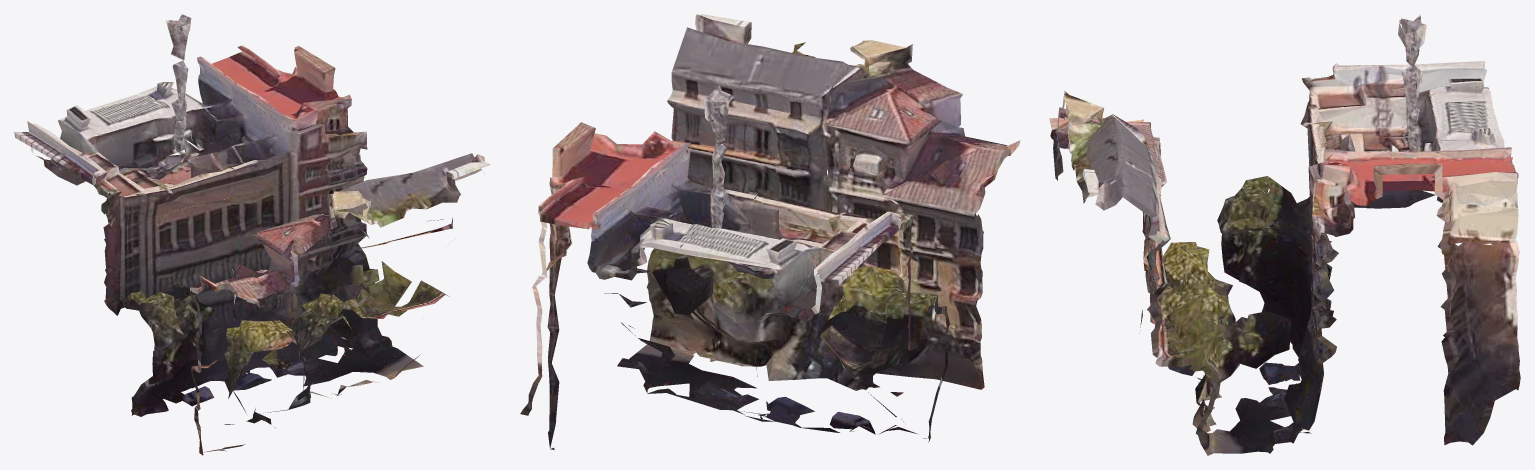
The picture shows the model from 3 angles, left to right: view 1: azimuth 30°, elevation 25°; view 2: azimuth 150°, elevation 25°; view 3: azimuth 270°, elevation 25°; orthographic projection. The views are drawn at different scales.
Visible parts, largest first — view 1: Mesh_0; view 2: Mesh_0; view 3: Mesh_0.
Boxes of the visible parts, x1=… form: Mesh_0: x1=14, y1=14, x2=490, y2=455; Mesh_0: x1=520, y1=14, x2=1020, y2=449; Mesh_0: x1=1049, y1=14, x2=1520, y2=455.
Bounding box in the file's own units: 33.32 × 35 × 41.44.
Materials: 1 (1 with a texture image).
